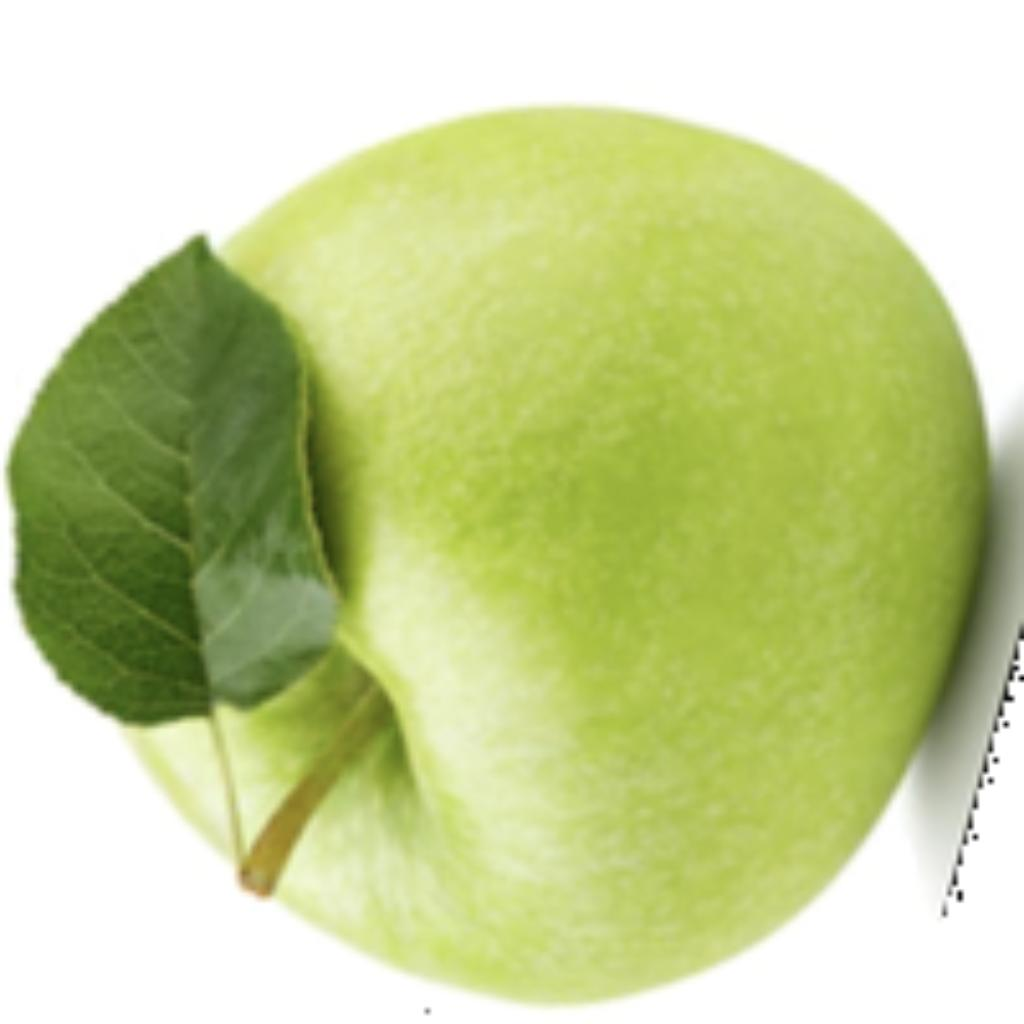apple: (0, 97, 1019, 1009)
